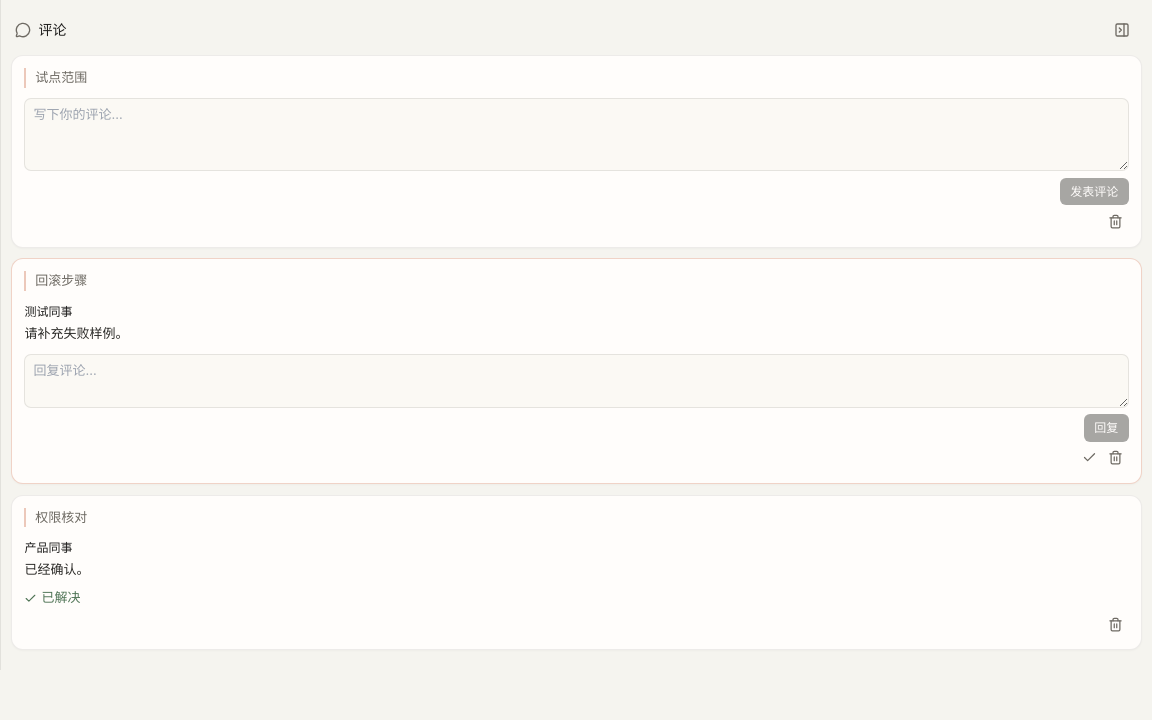
Test: CommentSidebar › input: 空白回复禁用，有效回复去掉两端空白后提交并清空
The width and height of the screenshot is (1152, 720).
Expected: the button "回复" is disabled, [1084,414,1129,442]
Type "  已经验证  " into the text box named "回复内容" at x=576, y=381, box [24,354,1129,408]
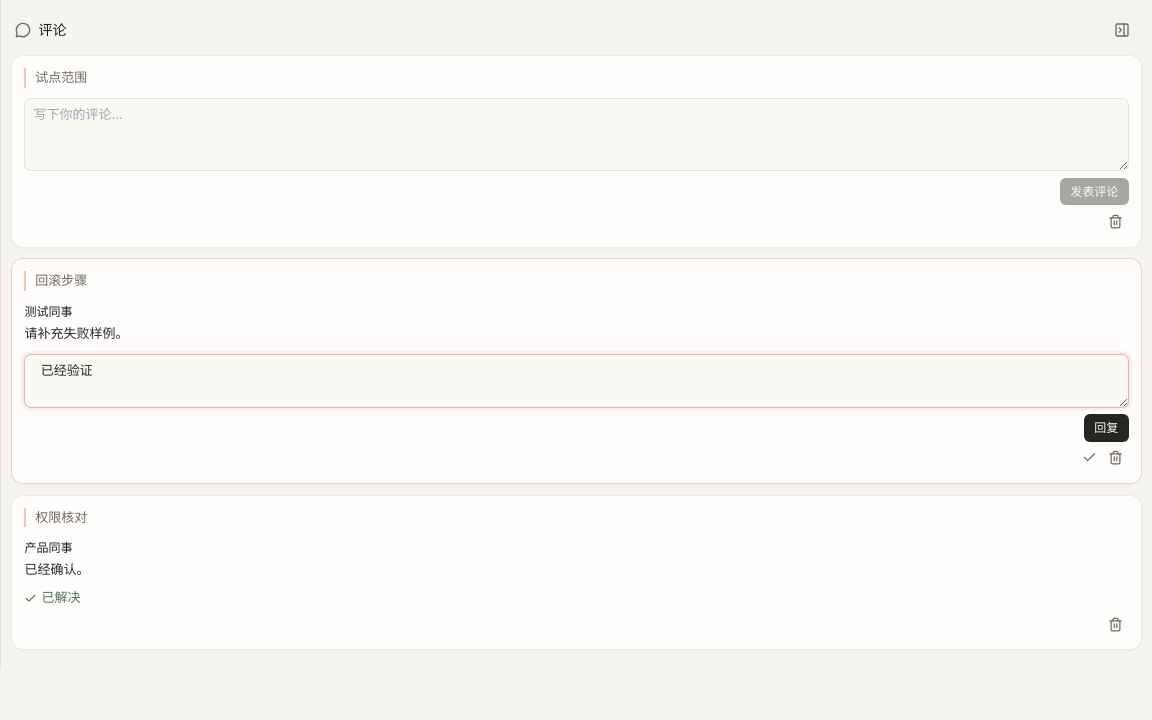
Now the button "回复" is enabled
Click the button "回复" at x=1106, y=428, box [1084,414,1129,442]
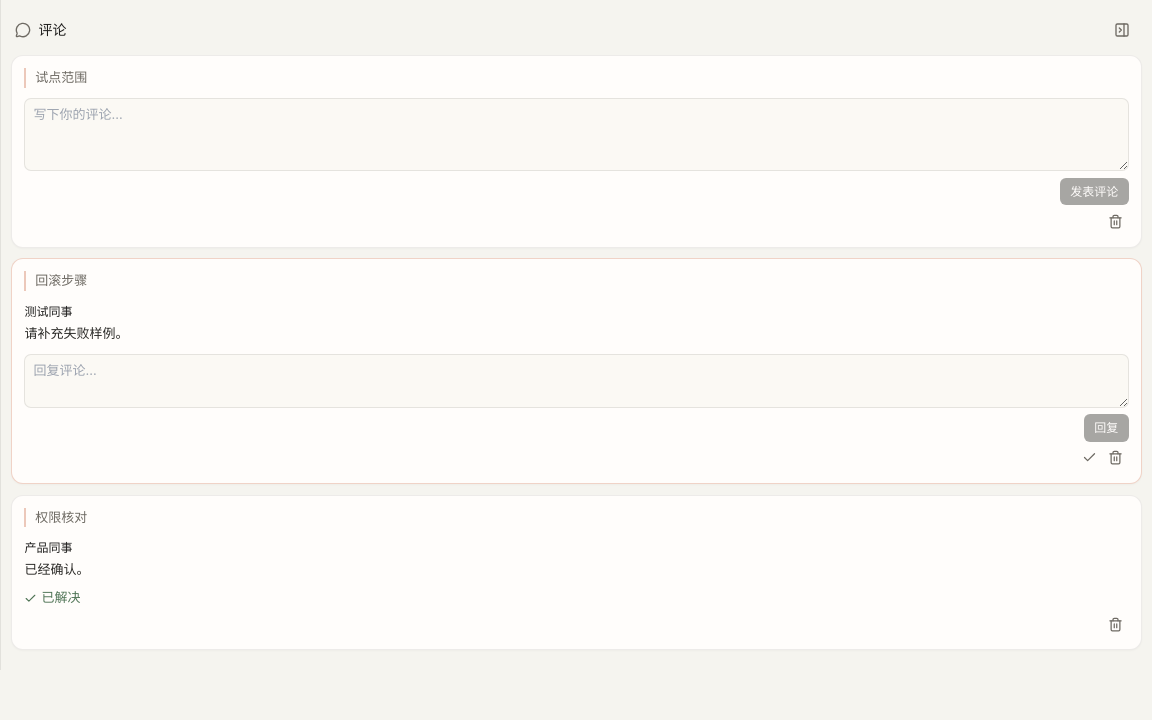
Now the text box named "回复内容" is empty, box [24,354,1129,408]
